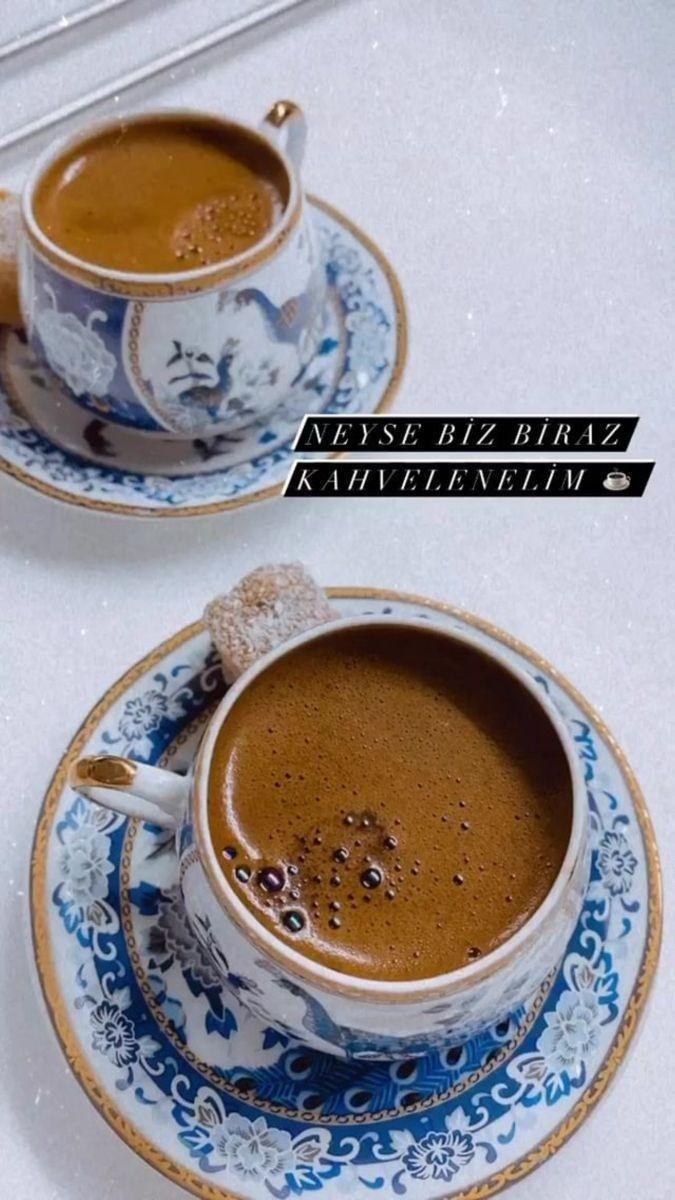cup-handle: (67, 606, 597, 1079), (14, 94, 330, 484)
